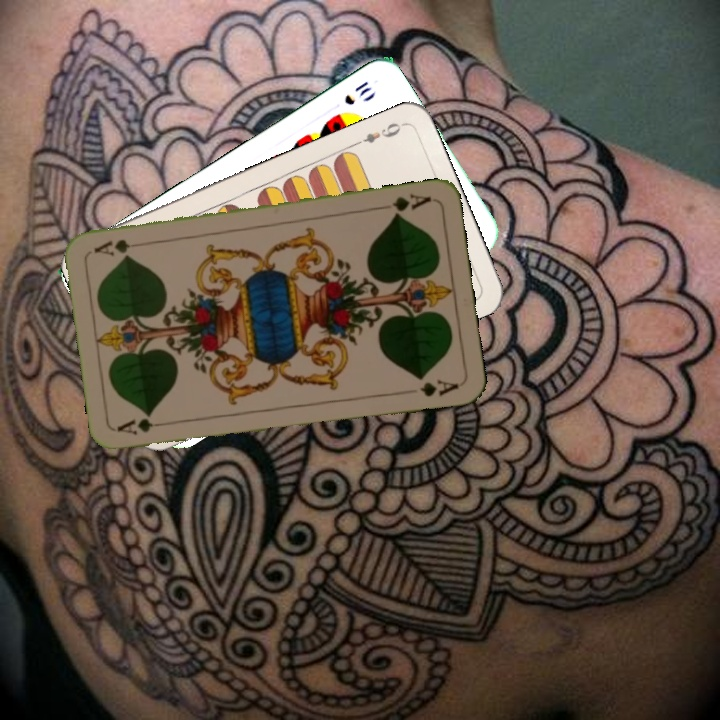E9: (350, 118, 406, 149)
GA: (375, 190, 434, 219), (113, 414, 173, 438)
S10: (340, 77, 374, 108)
